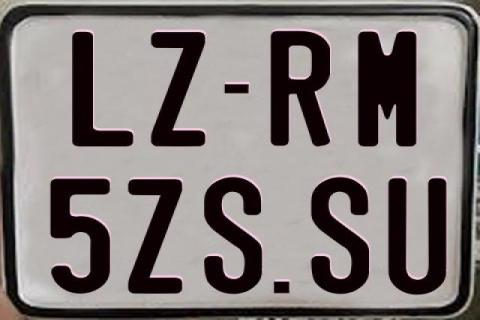0: (48, 179, 110, 297)
L: (70, 32, 134, 147)
M: (358, 32, 418, 152)
R: (270, 31, 329, 148)
S: (201, 175, 264, 297), (309, 175, 369, 295)
U: (388, 178, 448, 298)
Z: (128, 179, 188, 297), (148, 29, 206, 145)
